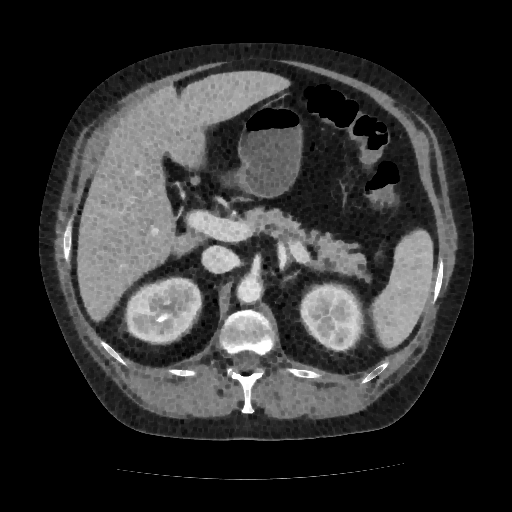Lesion: (153, 311, 173, 327)
